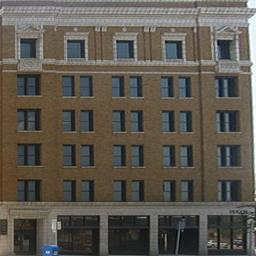building: (0, 0, 256, 253)
